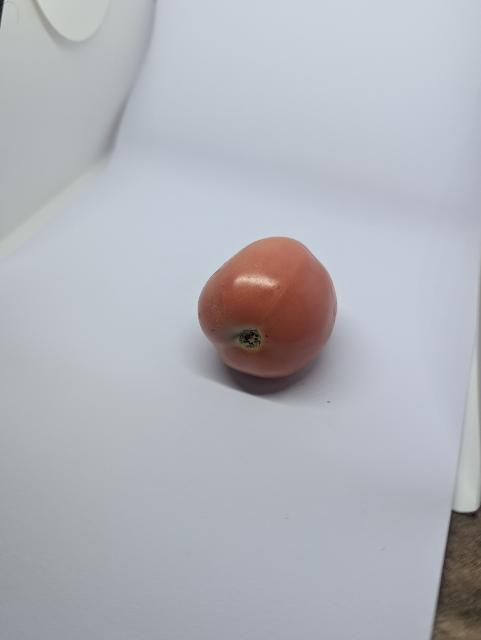red: (178, 217, 359, 403)
